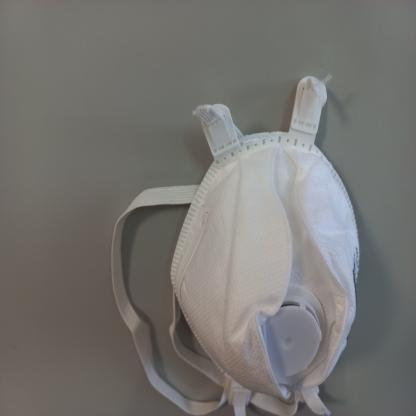mask: (162, 123, 362, 416)
